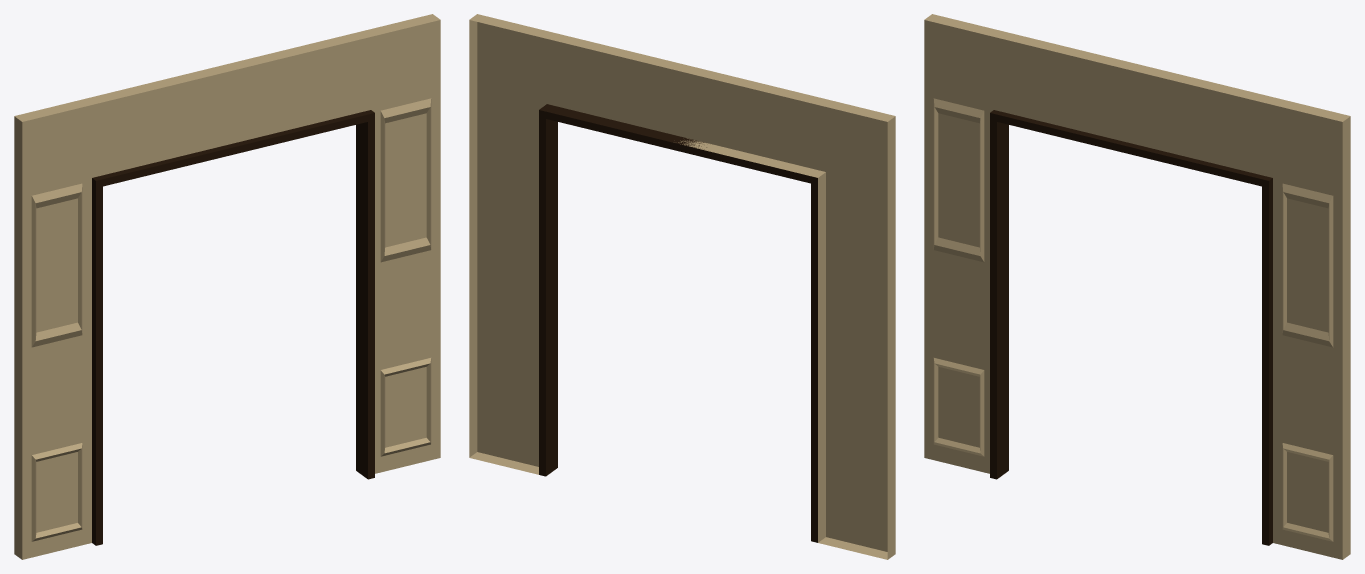
Rendered from ElevatorExterior_Fixed.fbx.
3 views of the same model, side by side, from view 1: azimuth 30°, elevation 25°; view 2: azimuth 150°, elevation 25°; view 3: azimuth 330°, elevation 25° (orthographic).
Visible parts, largest first — view 1: Wall005, Plane001; view 2: Wall005, Plane001; view 3: Wall005, Plane001.
Part boxes in pixels (x1,y1,x2,y2): Wall005: (14, 14, 440, 559); Plane001: (92, 110, 374, 545); Wall005: (469, 14, 895, 559); Plane001: (539, 104, 817, 542); Wall005: (924, 14, 1350, 559); Plane001: (990, 110, 1272, 545).
Size of the model in its own units: 3 by 3 by 0.15.
